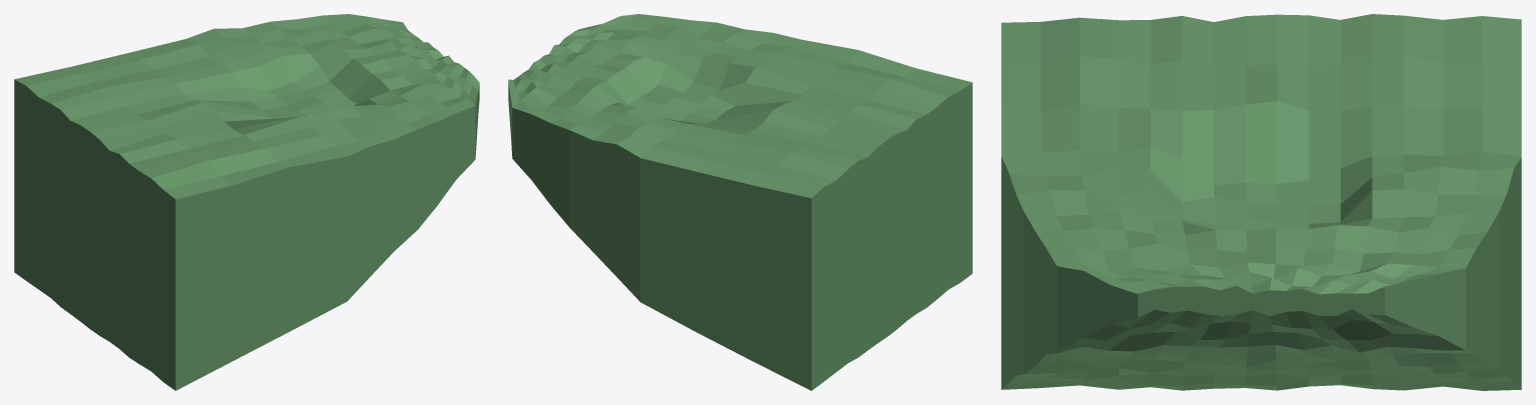
Rendered from titlestage.fbx.
The picture shows the model from 3 angles, left to right: view 1: azimuth 30°, elevation 25°; view 2: azimuth 150°, elevation 25°; view 3: azimuth 270°, elevation 25°; orthographic projection. The views are drawn at different scales.
Visible parts, largest first — view 1: Cube; view 2: Cube; view 3: Cube.
Part boxes in pixels (x1,y1,x2,y2): Cube: (14, 14, 479, 390); Cube: (508, 14, 972, 390); Cube: (1001, 14, 1521, 390).
Bounding box in the file's own units: 377 × 207 × 304.
